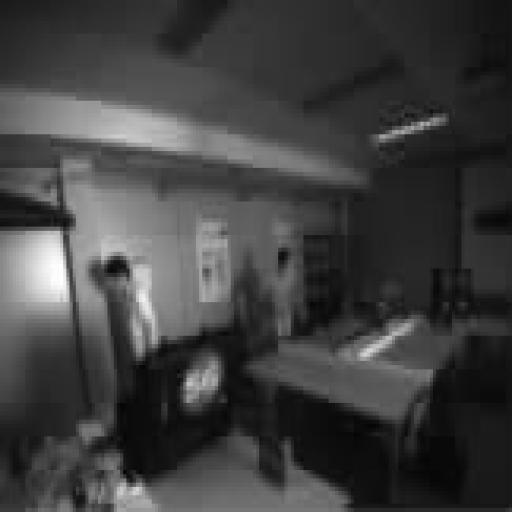human: (105, 252, 158, 478), (272, 248, 300, 339)
